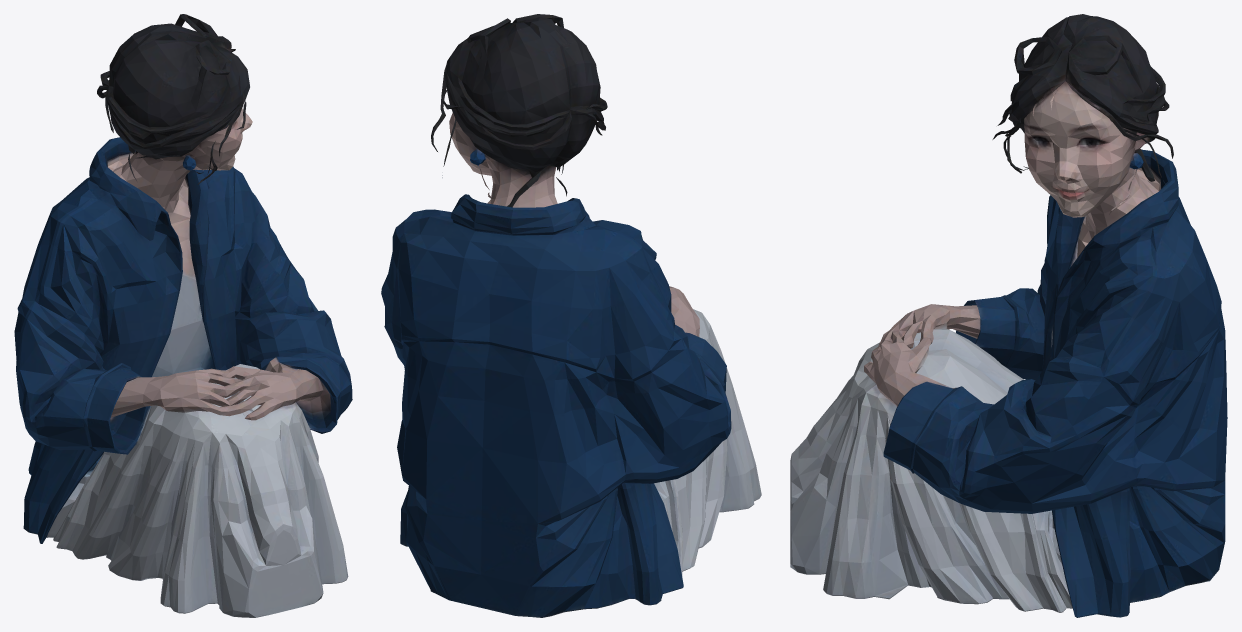
The model's file is seaside-lady.glb.
The picture shows the model from 3 angles, left to right: view 1: azimuth 30°, elevation 25°; view 2: azimuth 150°, elevation 25°; view 3: azimuth 270°, elevation 25°; orthographic projection. The views are drawn at different scales.
Visible parts, largest first — view 1: tripo_node_4cb4ddaf-5bdb-4720-b33c-7cfd14f03f3c; view 2: tripo_node_4cb4ddaf-5bdb-4720-b33c-7cfd14f03f3c; view 3: tripo_node_4cb4ddaf-5bdb-4720-b33c-7cfd14f03f3c.
Boxes of the visible parts, x1,y1,x2,y2 form: tripo_node_4cb4ddaf-5bdb-4720-b33c-7cfd14f03f3c: [14, 14, 352, 617]; tripo_node_4cb4ddaf-5bdb-4720-b33c-7cfd14f03f3c: [381, 14, 761, 617]; tripo_node_4cb4ddaf-5bdb-4720-b33c-7cfd14f03f3c: [790, 14, 1227, 617].
Size of the model in its own units: 0.6458 by 1 by 0.7339.
1 material, 1 textured.
